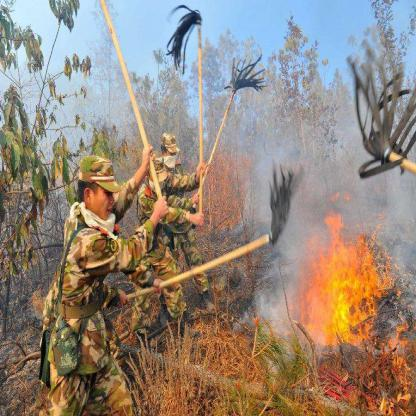fire: (298, 206, 412, 406)
